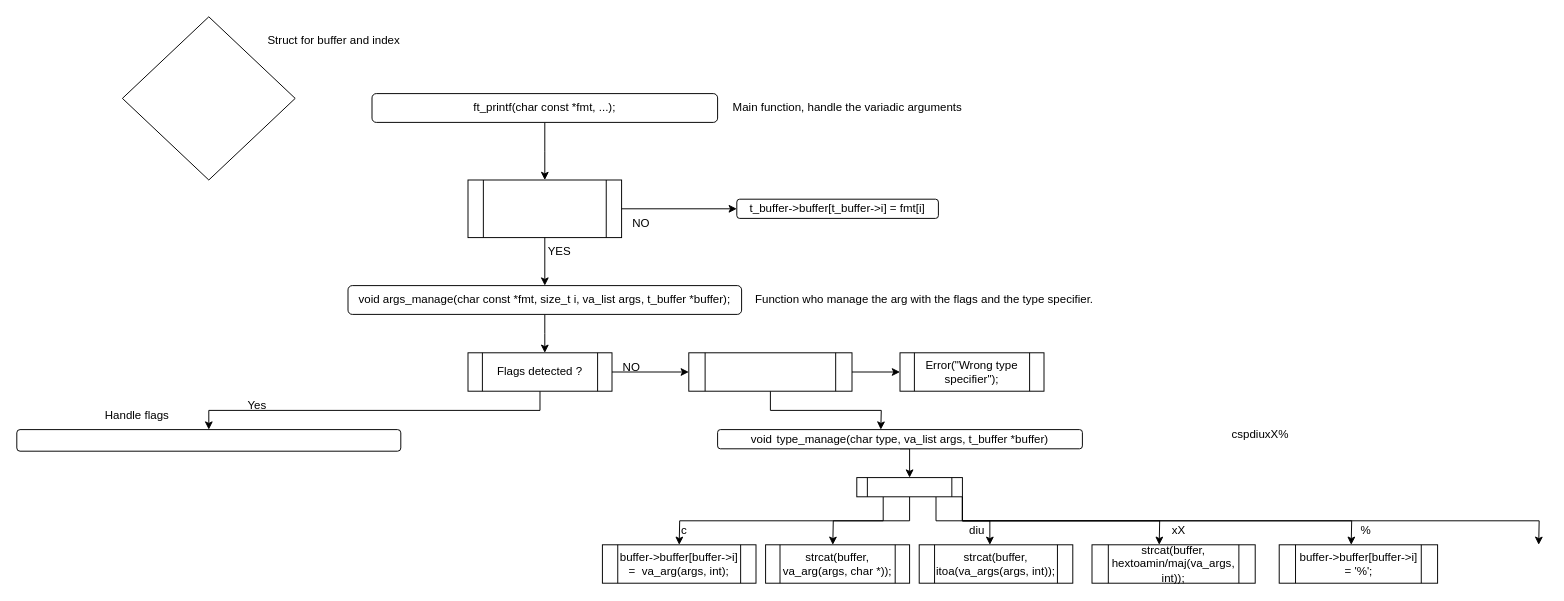
The diagram is 1564 pixels wide and 601 high, and some of its shapes have lost their labels. Each missing label, with the box of its shape:
format pattern detected ?: (467, 179, 622, 238)
type = ?: (856, 477, 962, 497)
Type specifier detected ?: (688, 352, 852, 391)
typedef struct s_buffer{ char buffer[4096]; size_t i; }t_buffer;: (121, 16, 295, 180)
void flags_manage(char const *fmt, size_t i, t_buffer *buffer);: (16, 429, 401, 451)
